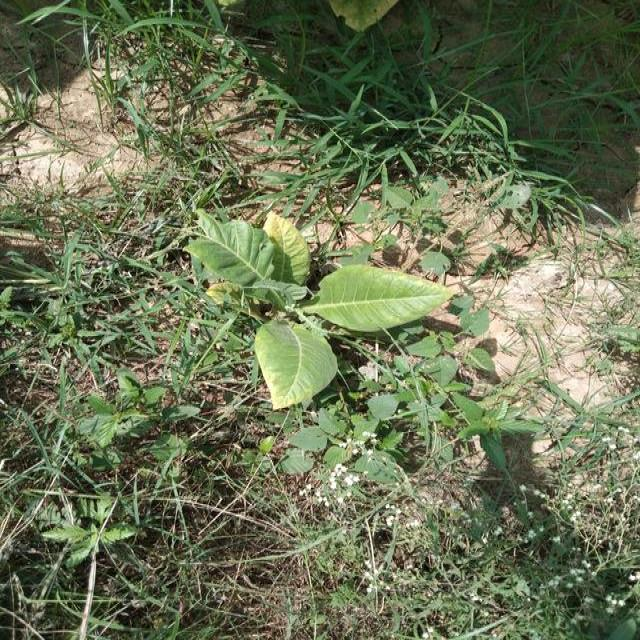crop: (195, 216, 456, 402)
